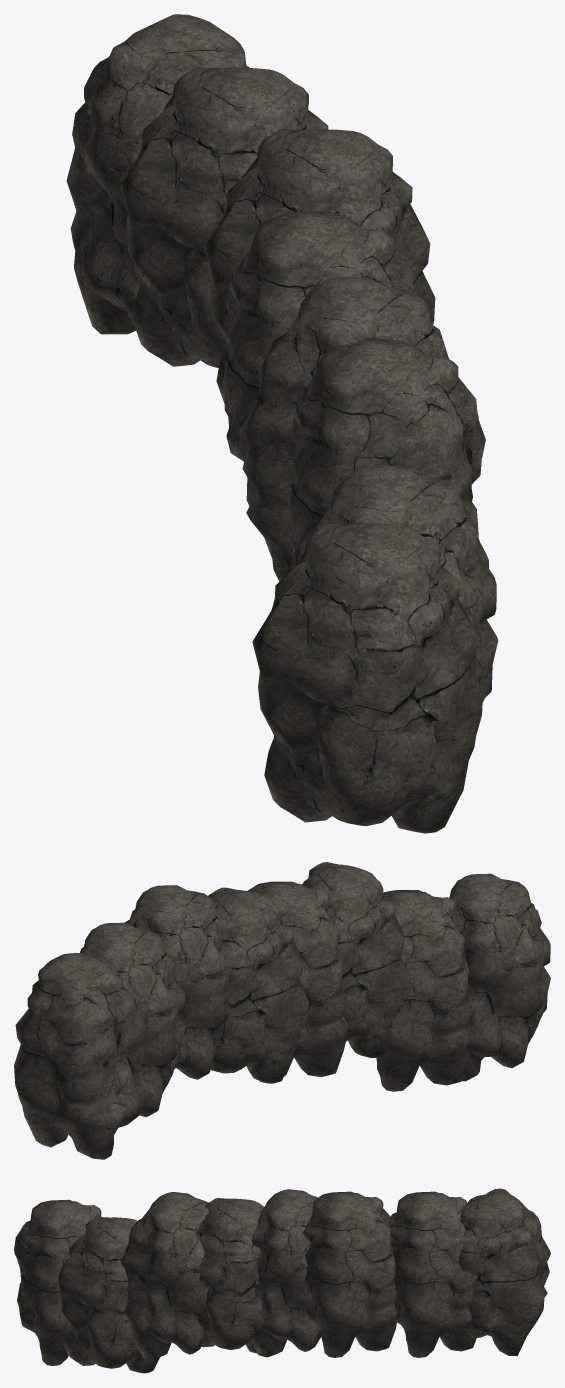
File: TwinPeakRocksShape15.dae
3 renders of one model, top to bottom at view 1: azimuth 30°, elevation 25°; view 2: azimuth 150°, elevation 25°; view 3: azimuth 270°, elevation 25°, orthographic. The views are drawn at different scales.
Parts seen in each view (by area): view 1: TwinPeakRocks15; view 2: TwinPeakRocks15; view 3: TwinPeakRocks15.
Part boxes in pixels (left/top/right/bottom): TwinPeakRocks15: left=66, top=14, right=498, bottom=833; TwinPeakRocks15: left=14, top=862, right=550, bottom=1159; TwinPeakRocks15: left=14, top=1188, right=550, bottom=1373.
Bounding box in the file's own units: 90.08 × 87.13 × 194.
